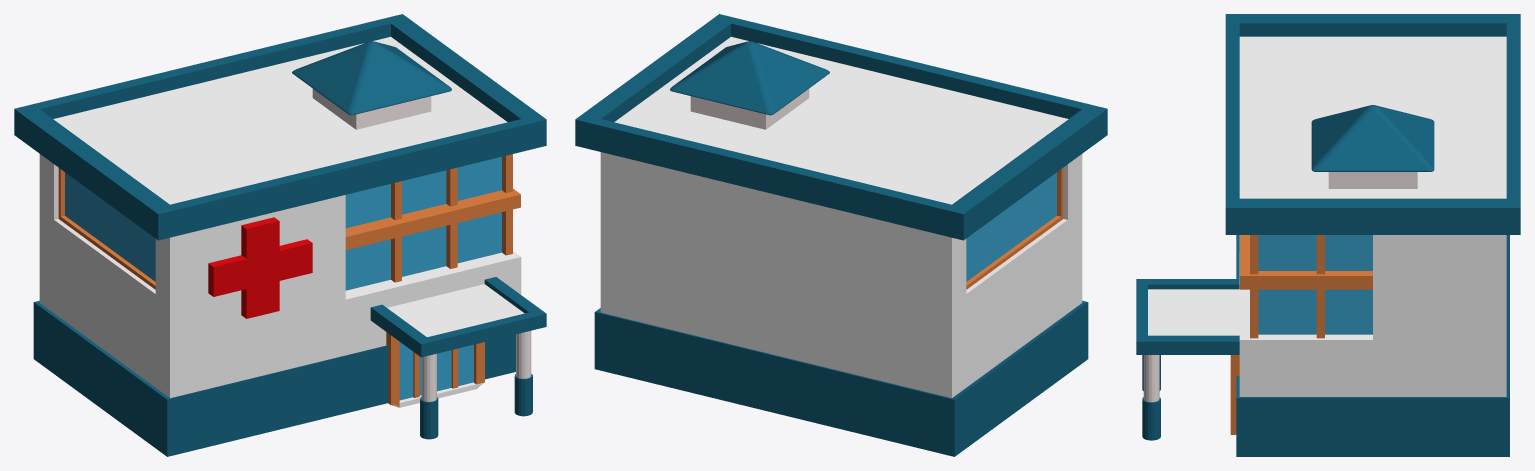
Rendered from health_institution.gltf.
3 renders of one model, left to right at view 1: azimuth 30°, elevation 25°; view 2: azimuth 150°, elevation 25°; view 3: azimuth 270°, elevation 25°, orthographic. The views are drawn at different scales.
Parts seen in each view (by area): view 1: Cube.024, Cube.025, Cube.026, Cube.022, Cube.027, Cone, Cube.005_plus logo_0, Cube.004_BLUE STRIP_0, Cube.029, Cube.023, Cube.001_Material.004_0, Cube.003_Material.004_0 (+9 smaller); view 2: Cube.024, Cube.025, Cube.026, Cube.022, Cone, Cube.029, Cube.006_building_0, Cube.028, Cube_building_0; view 3: Cube.026, Cube.024, Cube.025, Cube.022, Cube.027, Cone, Cube.023, Cube.004_BLUE STRIP_0, Cube.002_Material.004_0, Cube.003_Material.004_0, Cube.006_building_0, Cylinder.004 (+2 smaller).
Boxes of the visible parts, x1,y1,x2,y2 form: Cube.024: (39, 154, 521, 398); Cube.025: (14, 14, 546, 240); Cube.026: (53, 36, 507, 204); Cube.022: (33, 300, 515, 456); Cube.027: (345, 157, 501, 290); Cone: (292, 41, 451, 115); Cube.005_plus logo_0: (208, 217, 312, 318); Cube.004_BLUE STRIP_0: (370, 277, 546, 357); Cube.029: (65, 172, 155, 281); Cube.023: (387, 284, 524, 337); Cube.001_Material.004_0: (345, 192, 503, 249); Cube.003_Material.004_0: (391, 154, 512, 282); Cube.024: (600, 152, 1082, 398); Cube.025: (575, 14, 1107, 240); Cube.026: (614, 36, 1068, 204); Cube.022: (594, 300, 1088, 456); Cone: (670, 41, 829, 115); Cube.029: (966, 172, 1056, 281); Cube.006_building_0: (690, 88, 809, 129); Cube.028: (966, 168, 1063, 289); Cube_building_0: (966, 164, 1067, 293); Cube.026: (1239, 36, 1506, 198); Cube.024: (1239, 235, 1506, 396); Cube.025: (1225, 14, 1520, 234); Cube.022: (1236, 235, 1509, 456); Cube.027: (1258, 235, 1372, 334); Cone: (1311, 105, 1434, 171); Cube.023: (1148, 289, 1239, 335); Cube.004_BLUE STRIP_0: (1136, 279, 1239, 354); Cube.002_Material.004_0: (1240, 267, 1372, 289); Cube.003_Material.004_0: (1250, 235, 1324, 338); Cube.006_building_0: (1328, 172, 1417, 188); Cylinder.004: (1142, 355, 1160, 440).
Bounding box in the file's own units: 3.1 × 2.32 × 2.59.
